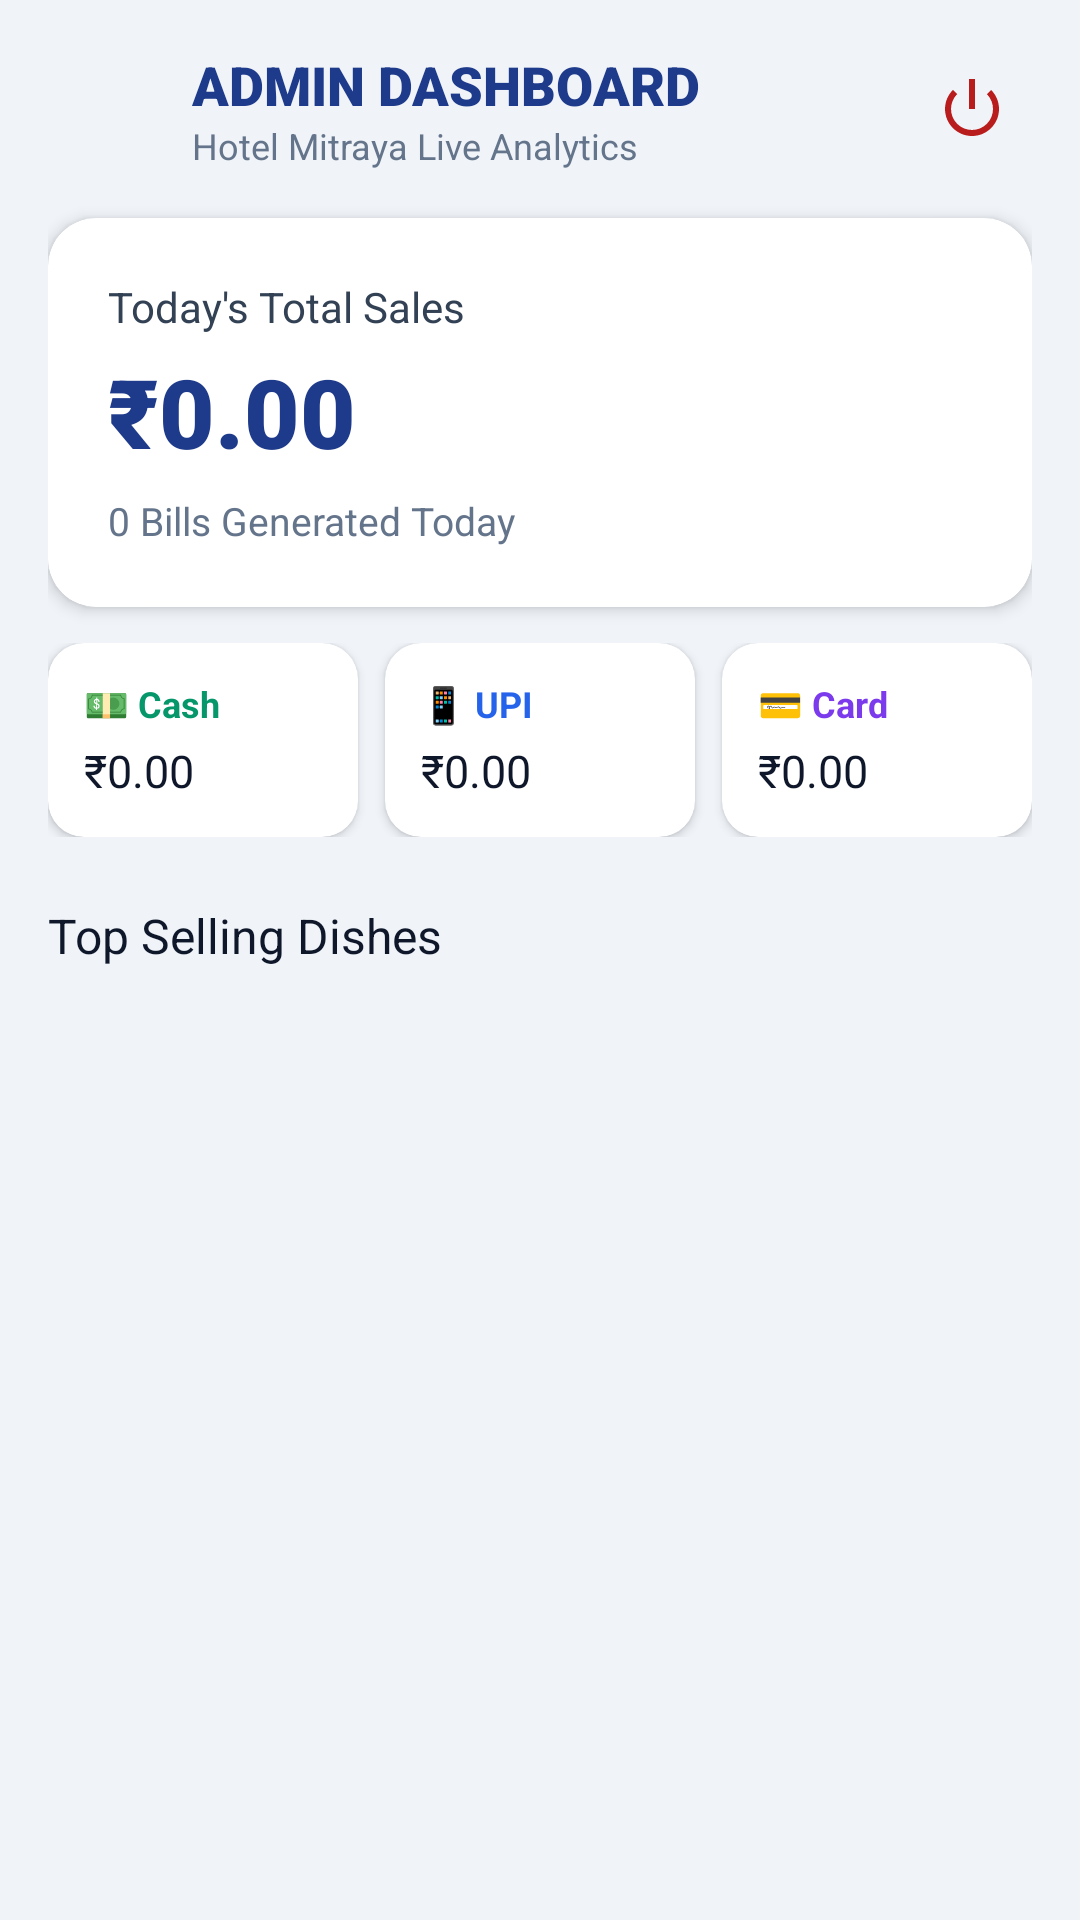

Icon click points for this 1080x1920 phone screenshot, format (x=x, y=y):
lock power off: (x=972, y=107)
